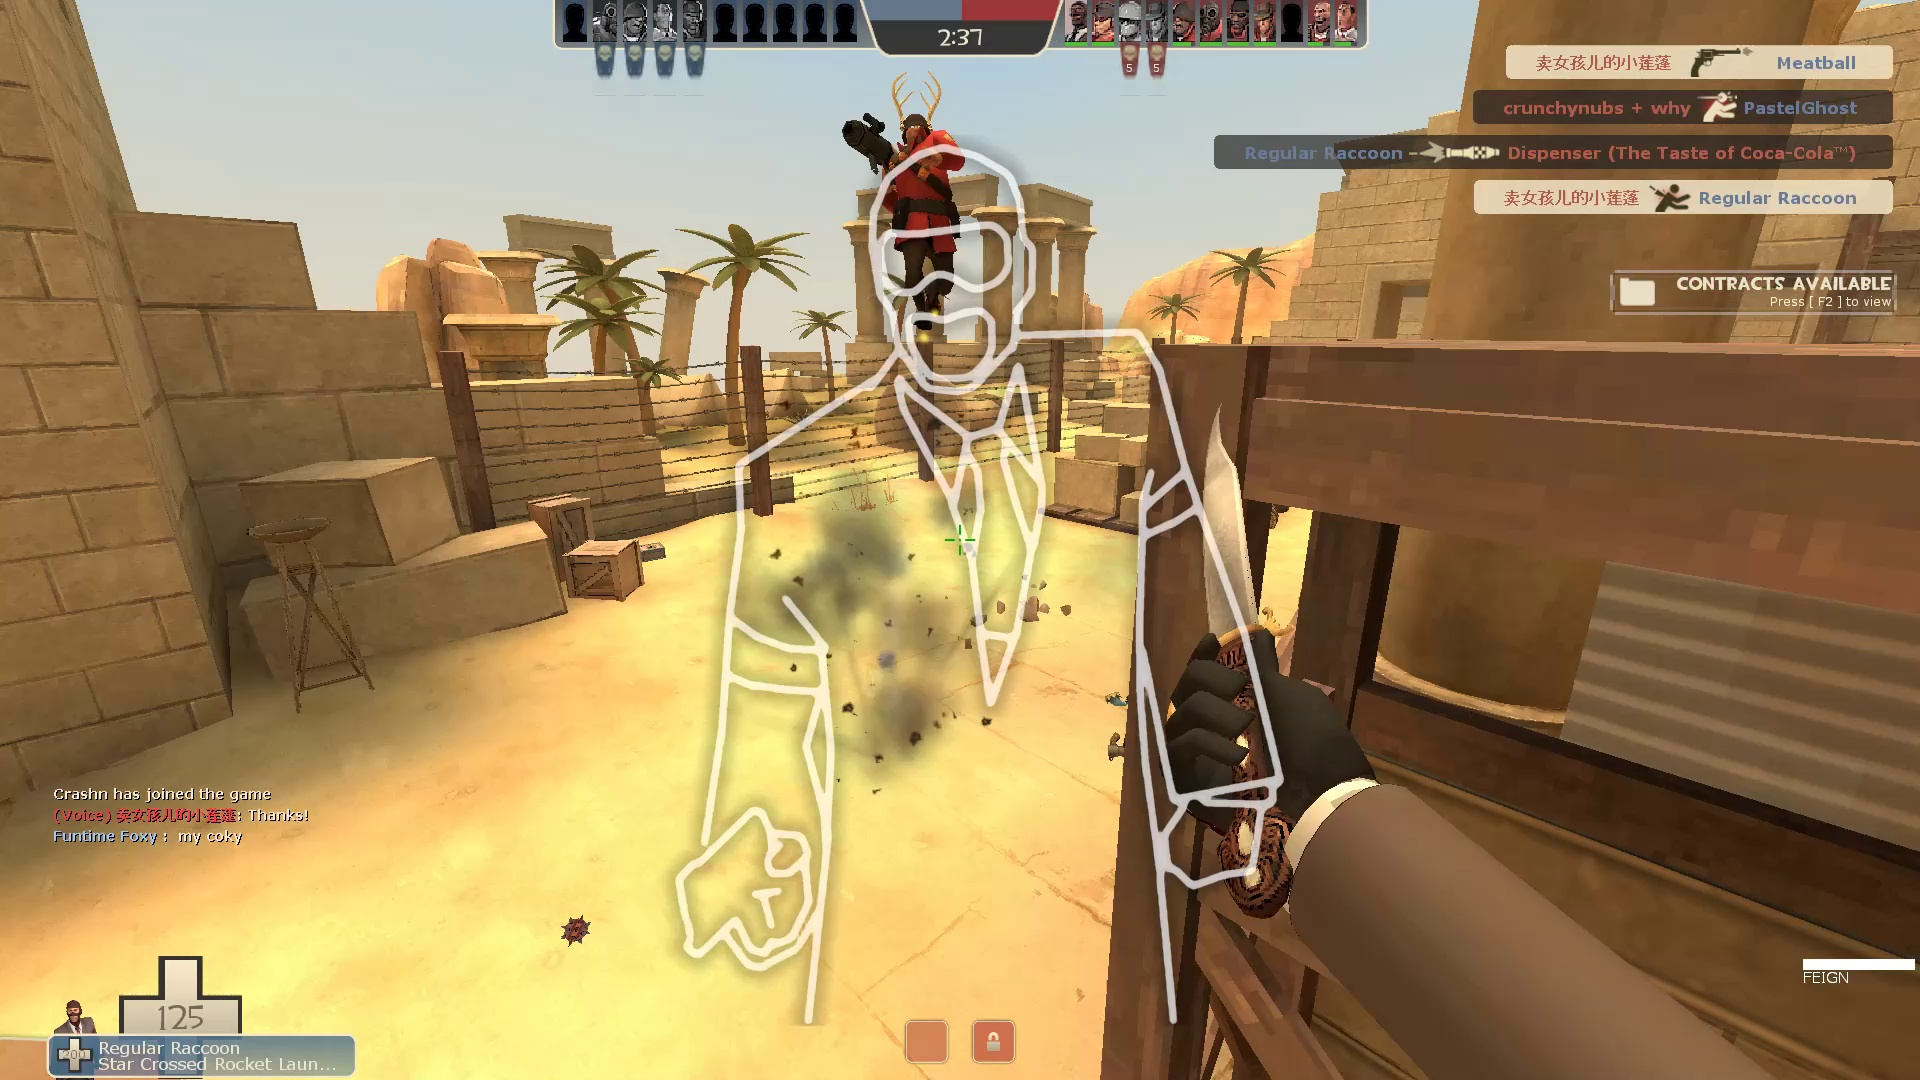red_soldier: (837, 69, 993, 353)
